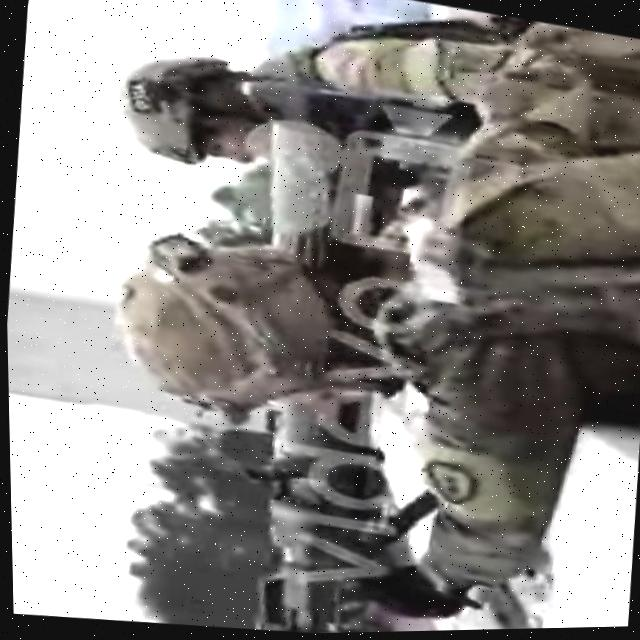rocket: (223, 388, 443, 636)
